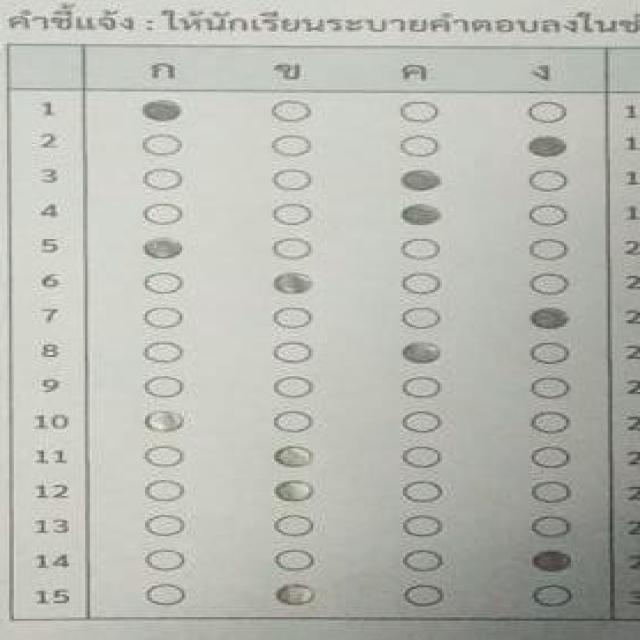a: (85, 89, 610, 128), (82, 403, 608, 435), (87, 230, 605, 262)
b: (91, 580, 613, 612), (89, 266, 609, 298), (91, 441, 611, 473), (93, 476, 607, 507)
c: (89, 164, 607, 197), (85, 336, 607, 368), (89, 200, 609, 228)
d: (87, 301, 607, 334), (95, 542, 613, 575), (89, 130, 607, 162)
null: (80, 368, 612, 401), (87, 510, 607, 537)
